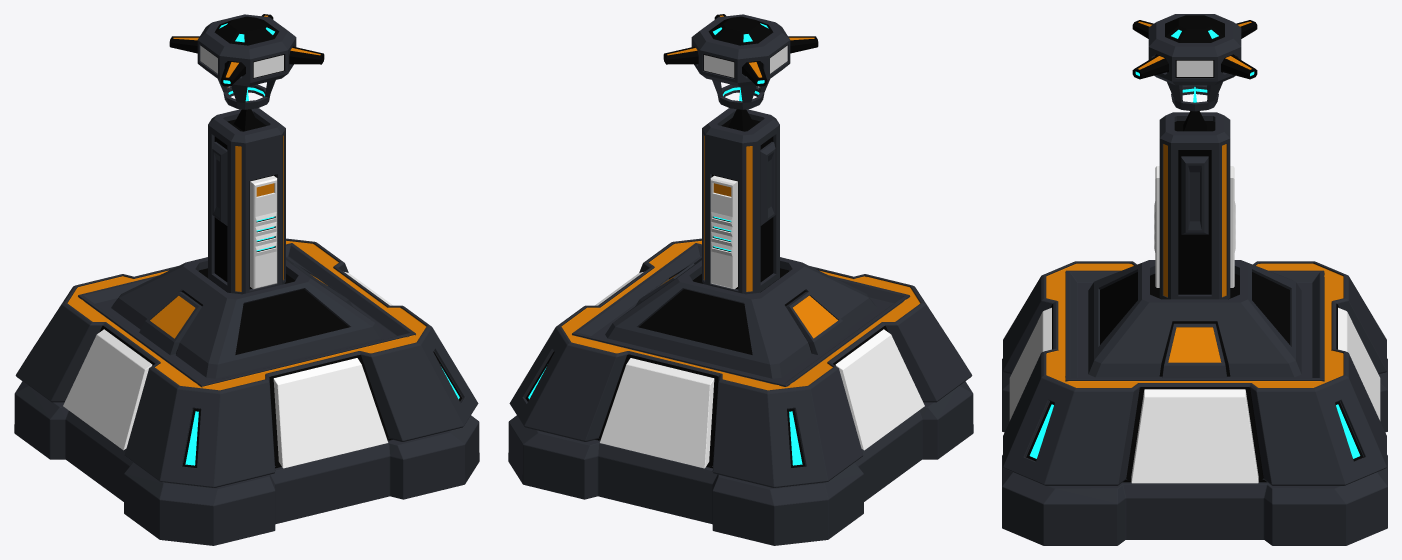
Rendered from SM_Turret_DroneHub.fbx.
3 renders of one model, left to right at view 1: azimuth 30°, elevation 25°; view 2: azimuth 150°, elevation 25°; view 3: azimuth 270°, elevation 25°, orthographic. The views are drawn at different scales.
Visible parts, largest first — view 1: SM_Turret_DroneHub_Base, SM_Turret_DroneHub_Drone; view 2: SM_Turret_DroneHub_Base, SM_Turret_DroneHub_Drone; view 3: SM_Turret_DroneHub_Base, SM_Turret_DroneHub_Drone.
Part boxes in pixels (x1,y1,x2,y2): SM_Turret_DroneHub_Base: (14, 88, 479, 545); SM_Turret_DroneHub_Drone: (169, 14, 324, 109); SM_Turret_DroneHub_Base: (508, 88, 973, 545); SM_Turret_DroneHub_Drone: (663, 14, 818, 109); SM_Turret_DroneHub_Base: (1002, 87, 1387, 545); SM_Turret_DroneHub_Drone: (1132, 14, 1257, 111).
Size of the model in its own units: 100 by 127 by 100.
